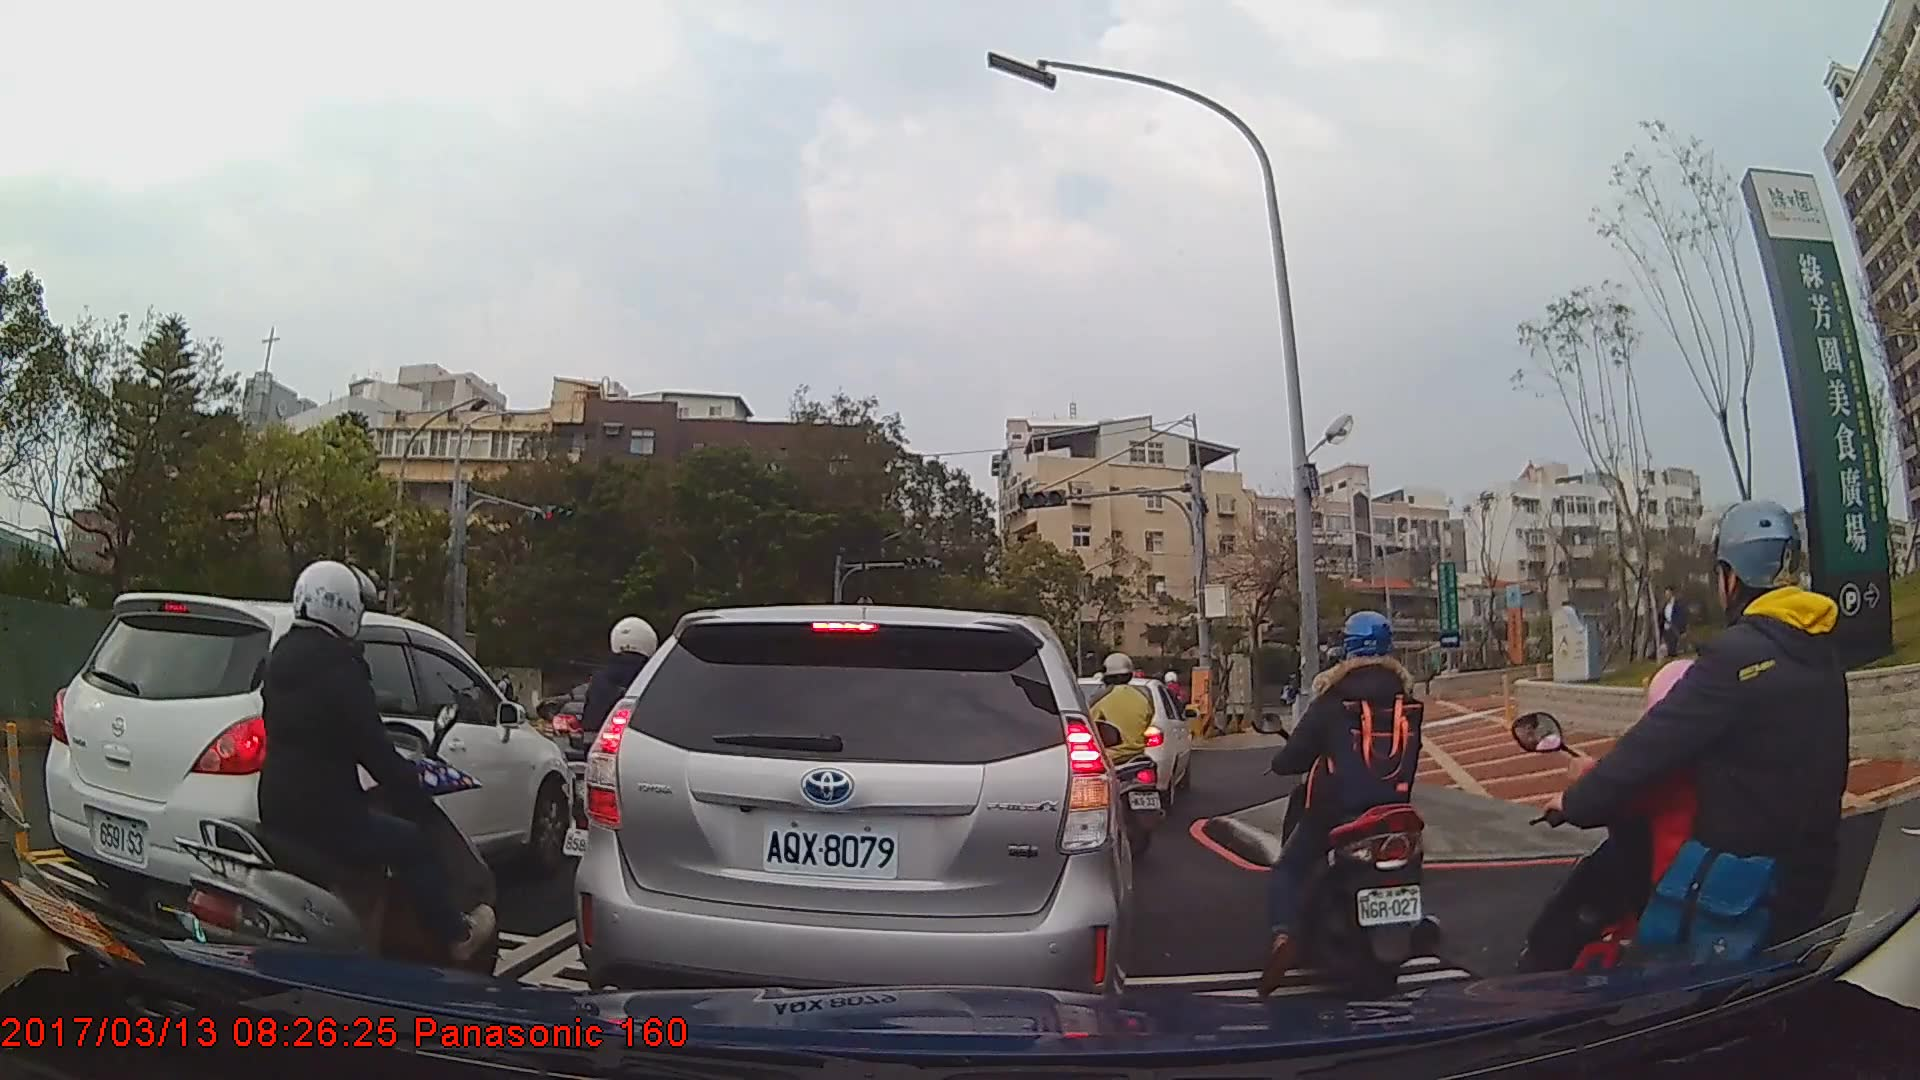pedestrian: (1648, 580, 1692, 667), (1632, 586, 1672, 679)
rider: (1512, 495, 1883, 1062), (182, 559, 507, 998), (1244, 609, 1442, 991), (568, 614, 708, 928), (1068, 650, 1168, 860)
vehicle: (570, 601, 1137, 1031), (44, 591, 571, 933)
